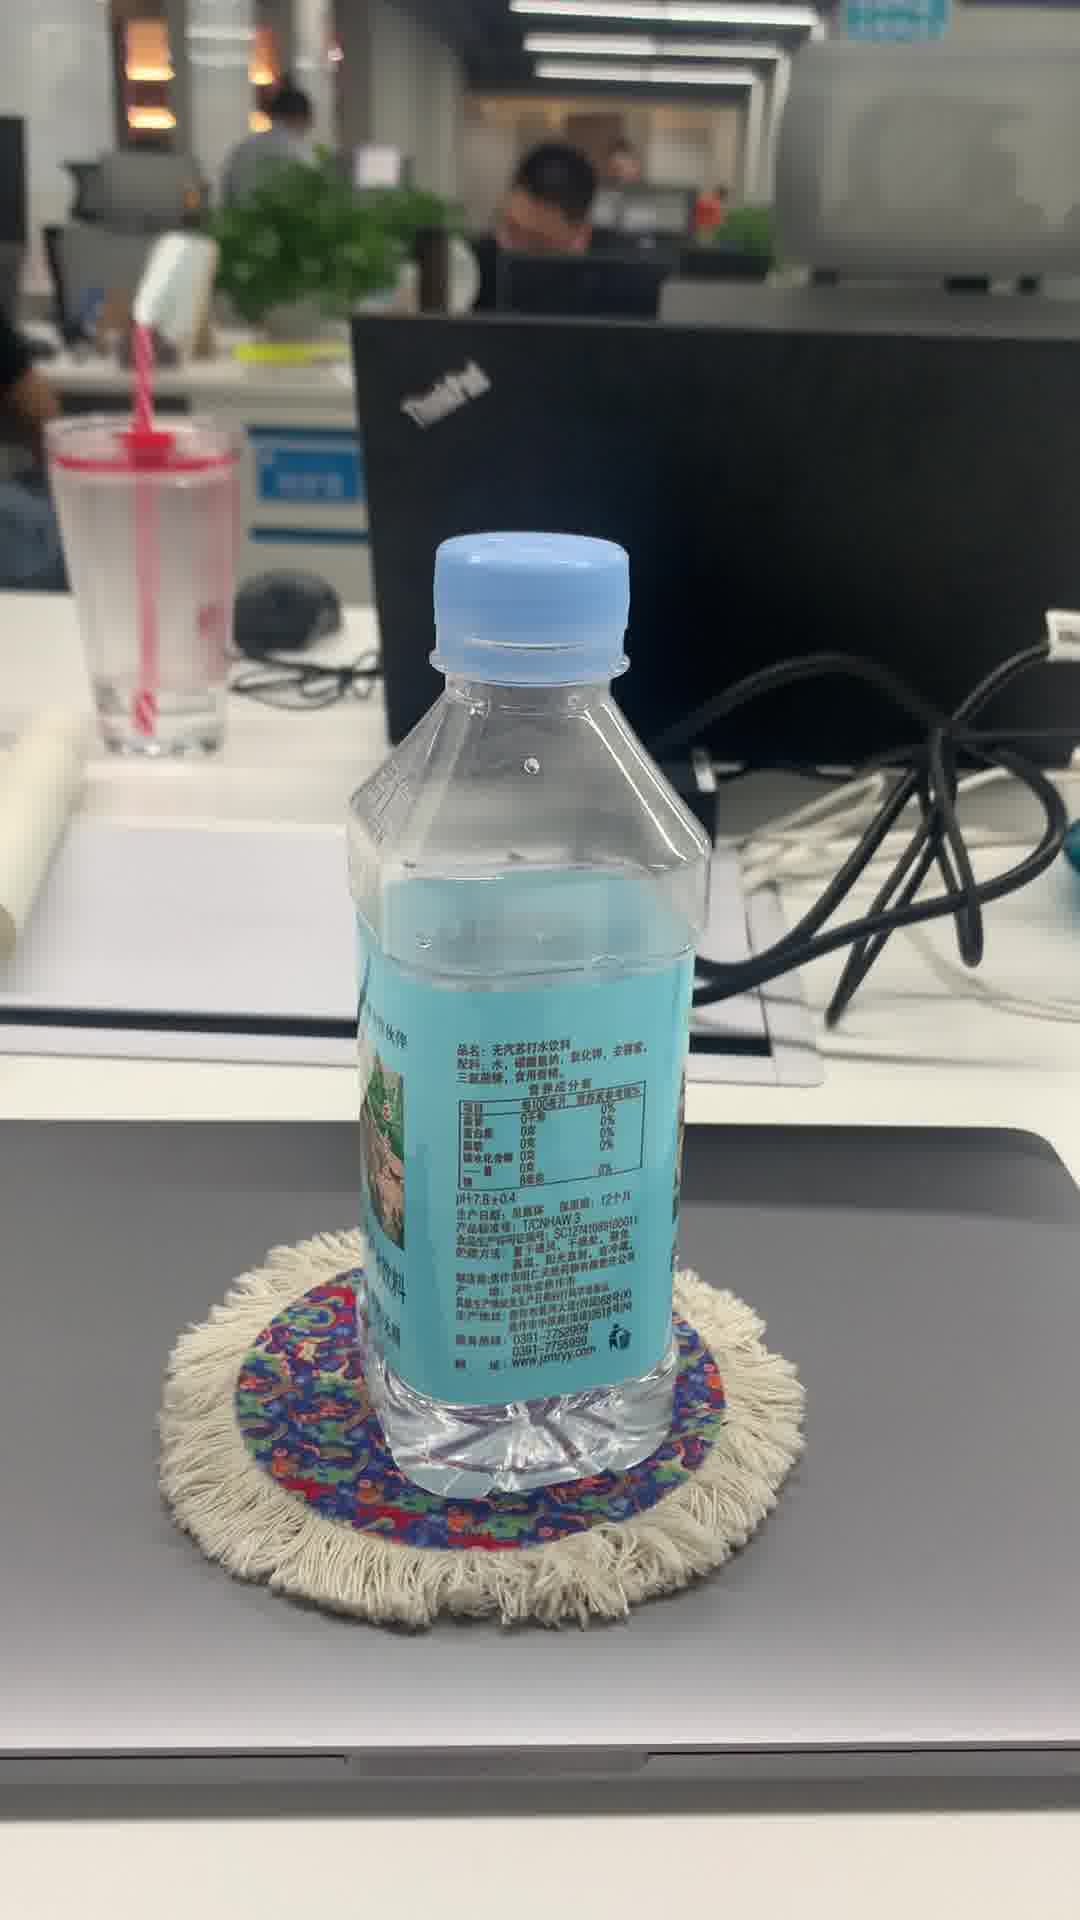水瓶: (334, 520, 724, 1509)
